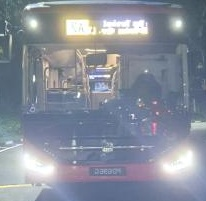bus: (65, 19, 88, 37)
